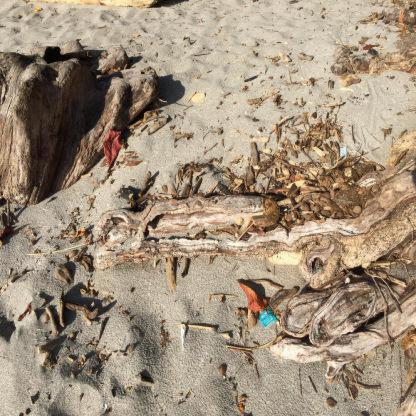Other plastic: (182, 323, 186, 351), (332, 158, 335, 166)
Plastic bag - wrapper: (259, 308, 277, 328)
Unlabeled litter: (339, 146, 347, 159)
